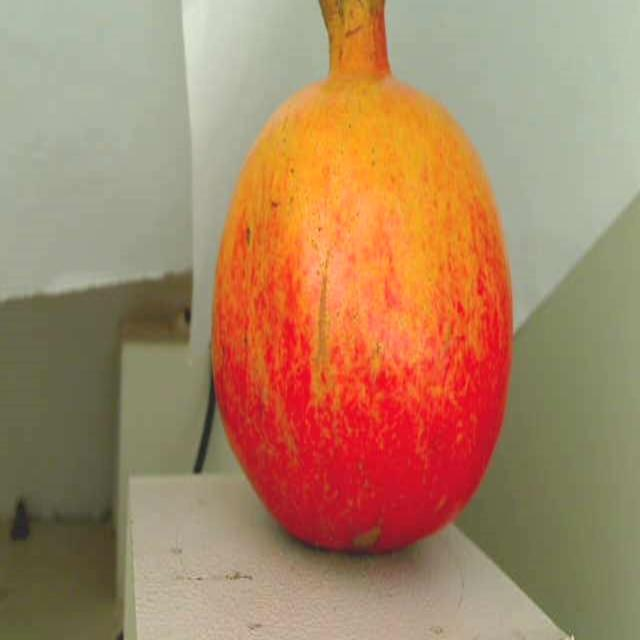pomegranate: (189, 0, 519, 566)
